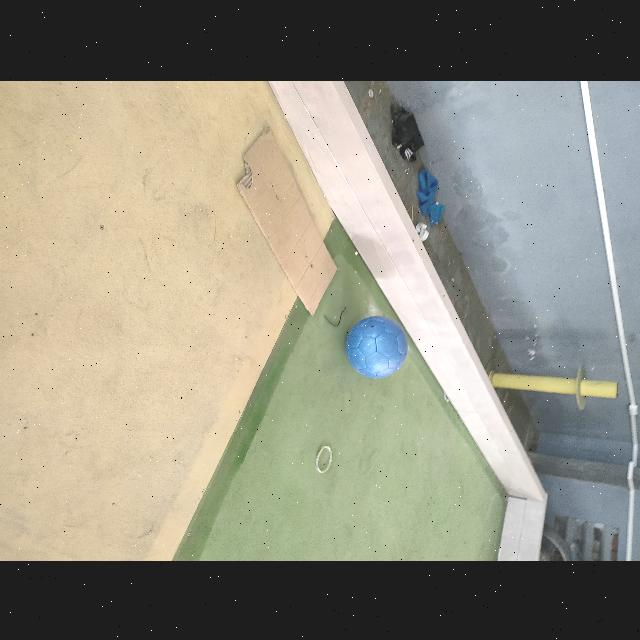B: (346, 315, 408, 377)
